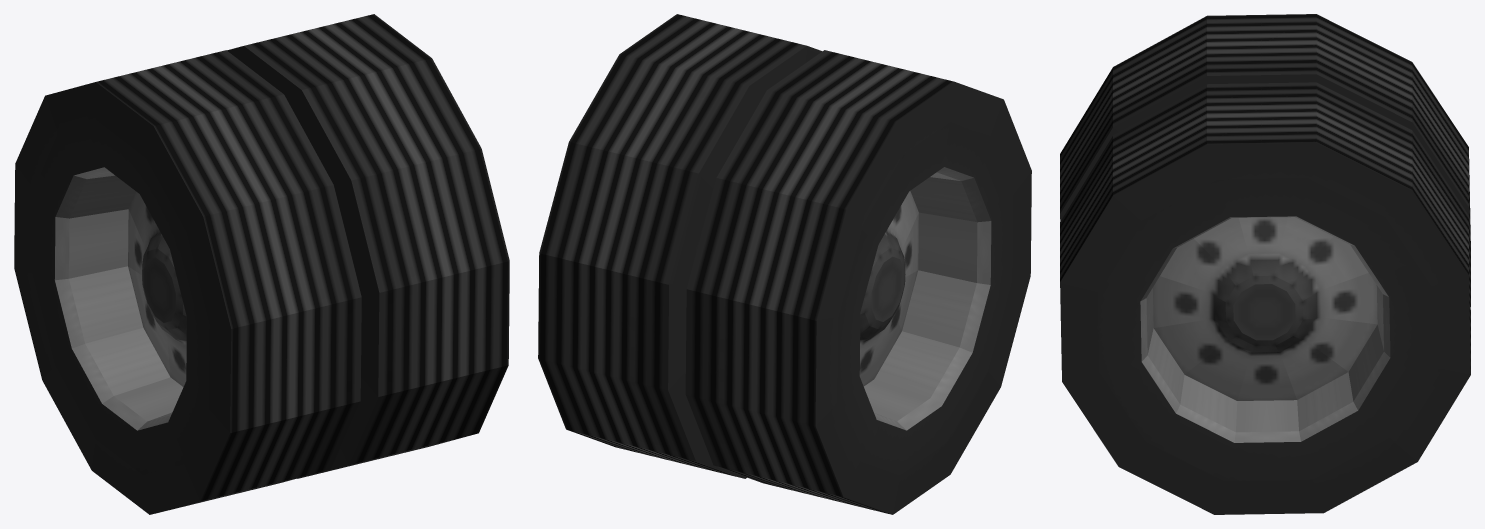
Rendered from DuallyWheelRear.fbx.
The picture shows the model from 3 angles, left to right: view 1: azimuth 30°, elevation 25°; view 2: azimuth 150°, elevation 25°; view 3: azimuth 270°, elevation 25°; orthographic projection. The views are drawn at different scales.
Visible parts, largest first — view 1: GavrilRearDuallyWheel; view 2: GavrilRearDuallyWheel; view 3: GavrilRearDuallyWheel.
Boxes of the visible parts, x1=… form: GavrilRearDuallyWheel: x1=14, y1=14, x2=509, y2=514; GavrilRearDuallyWheel: x1=538, y1=14, x2=1031, y2=514; GavrilRearDuallyWheel: x1=1060, y1=14, x2=1470, y2=514.
Size of the model in its own units: 0.7653 by 1.02 by 1.02.
